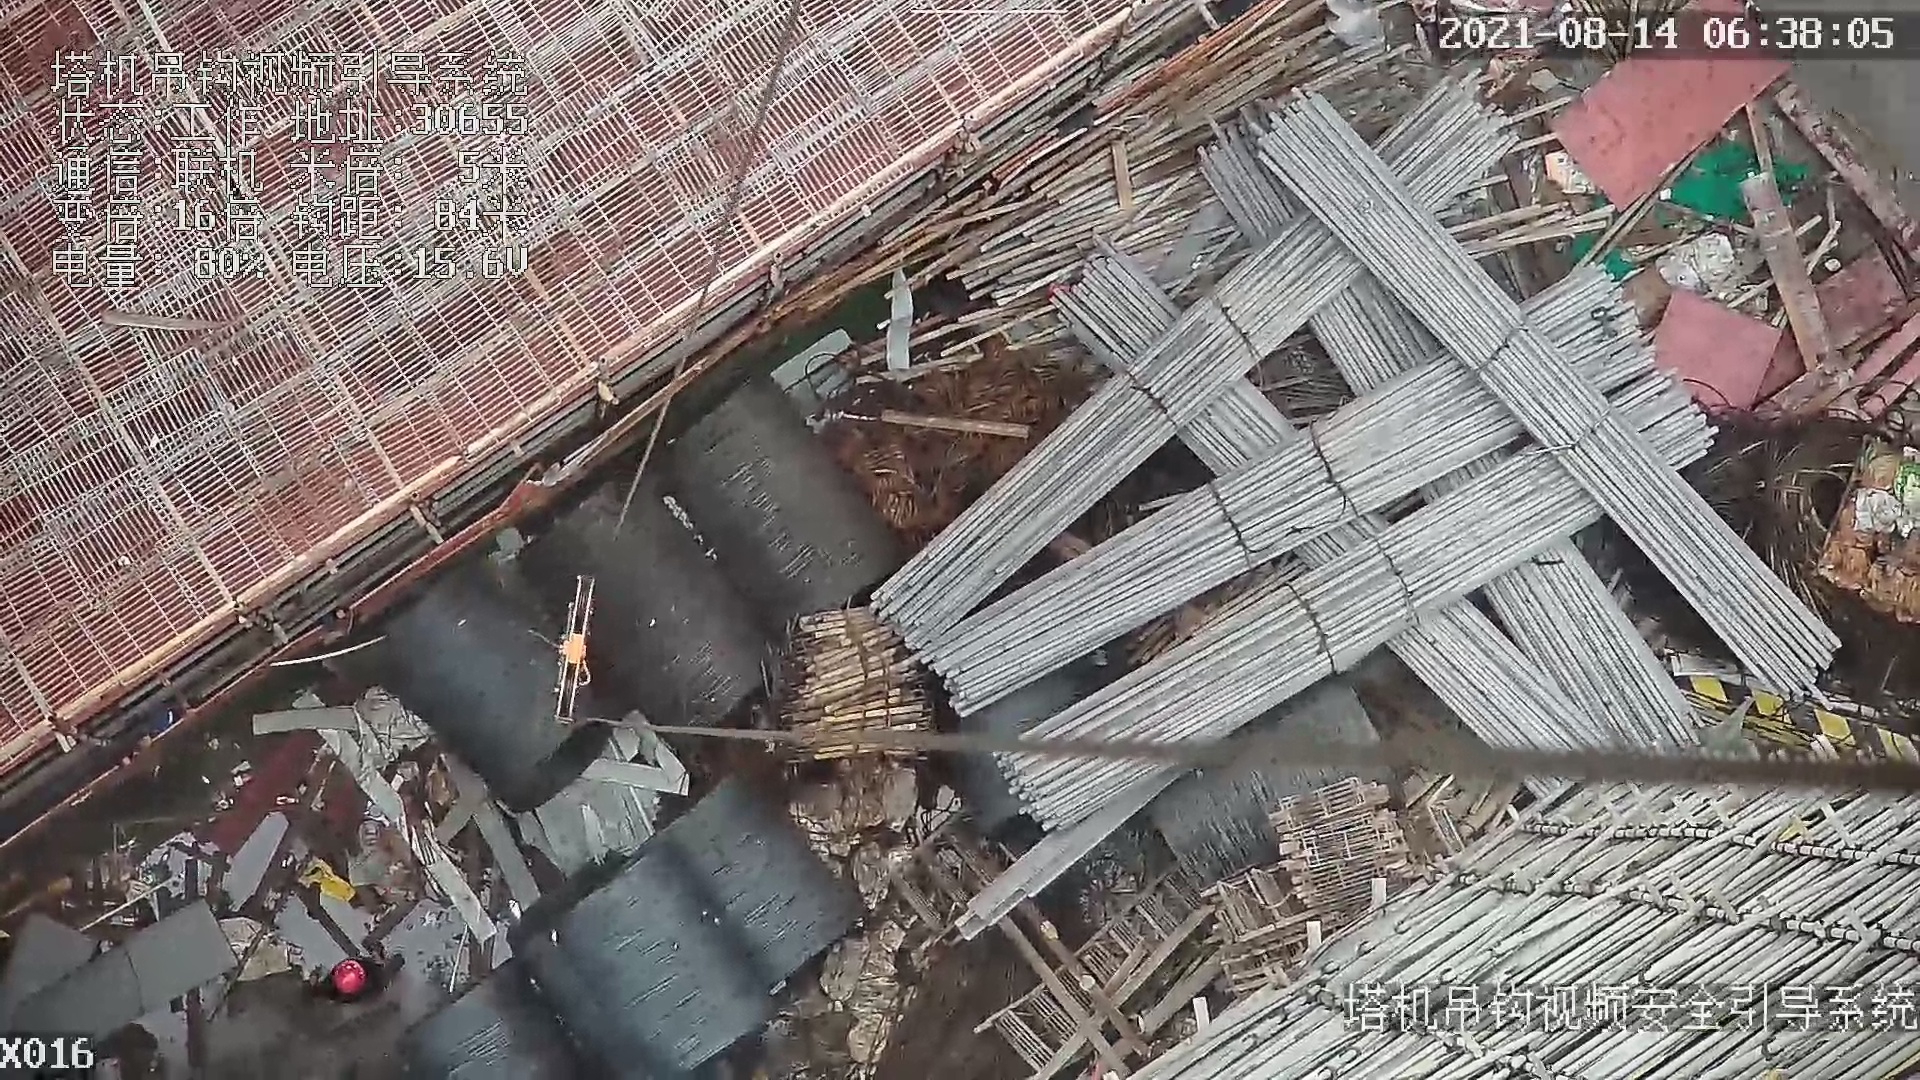helmet: (329, 959, 370, 1005)
hook: (545, 571, 594, 723)
person: (310, 946, 403, 1004)
scaffold: (917, 165, 1844, 747), (751, 605, 933, 763)
